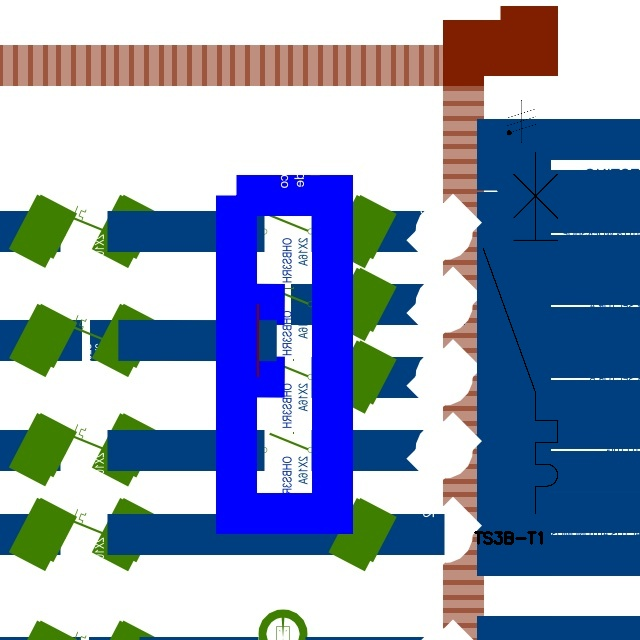interruptor_termomagnetico: (474, 142, 567, 522)
